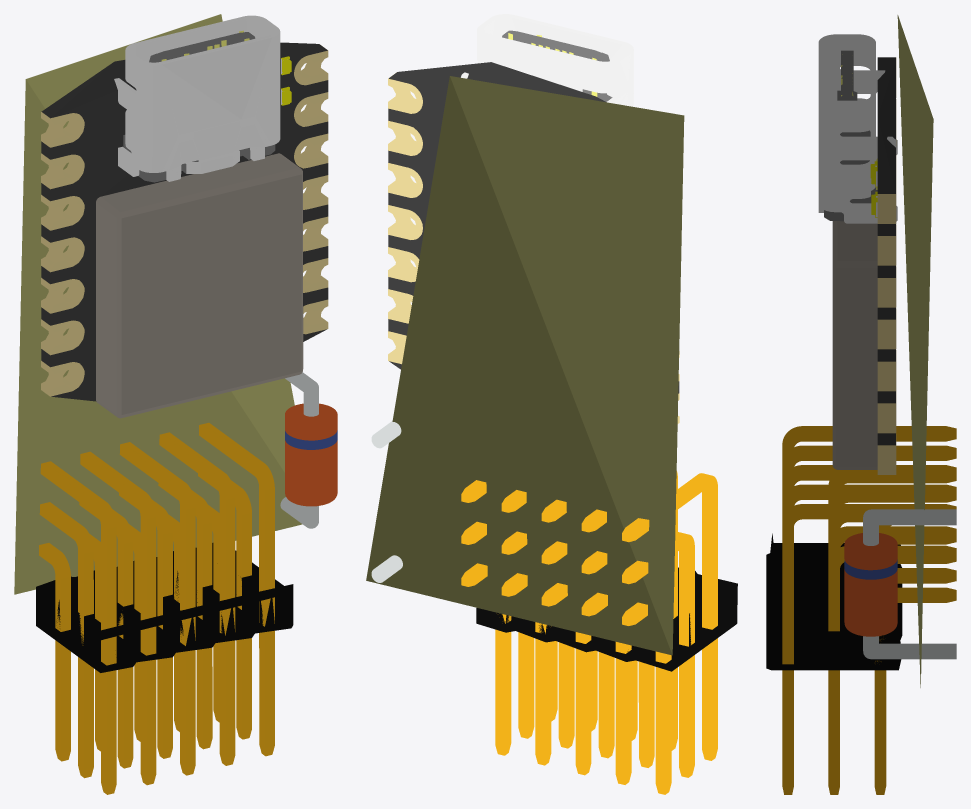
File: OBJ_PCB_swerve v2 copy.obj
The picture shows the model from 3 angles, left to right: view 1: azimuth 30°, elevation 25°; view 2: azimuth 150°, elevation 25°; view 3: azimuth 270°, elevation 25°; orthographic projection.
Size of the model in its own units: 76.24 by 169 by 41.24.
